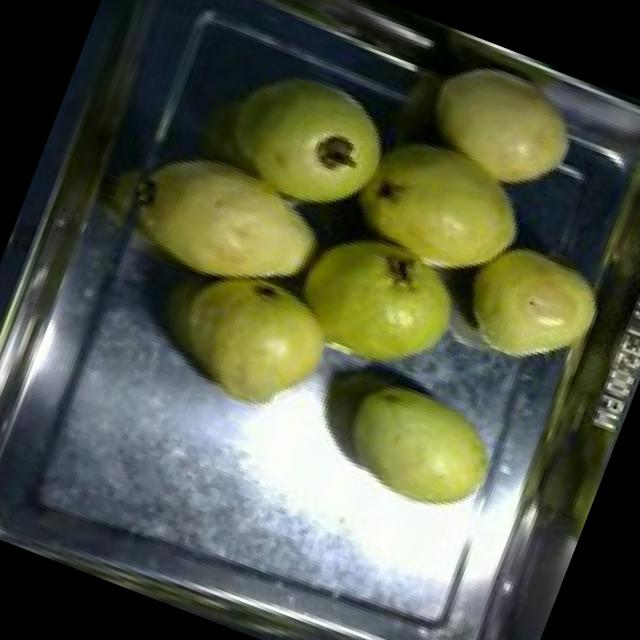Fruit: (112, 126, 350, 327), (137, 237, 358, 440), (263, 213, 486, 403), (330, 112, 550, 298), (207, 45, 416, 238), (400, 33, 602, 215), (315, 362, 520, 538), (434, 215, 622, 396)
